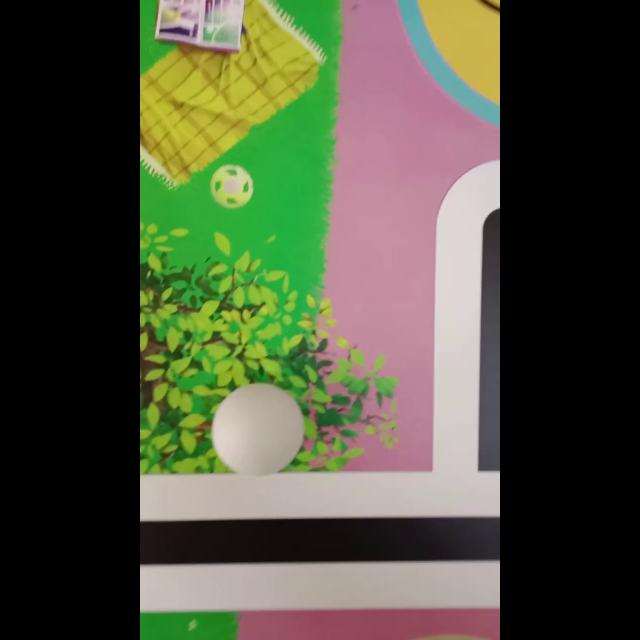white ball: (211, 381, 305, 475)
